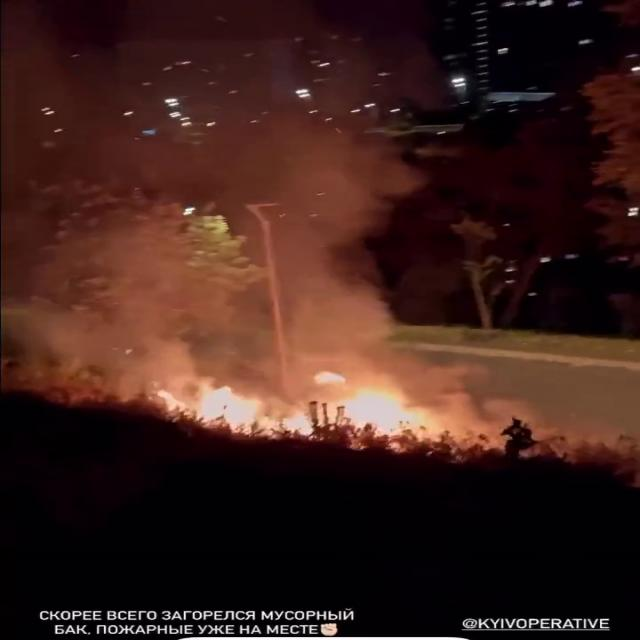Fire: (162, 378, 452, 438)
Smoke: (247, 202, 485, 406), (52, 282, 198, 403)
